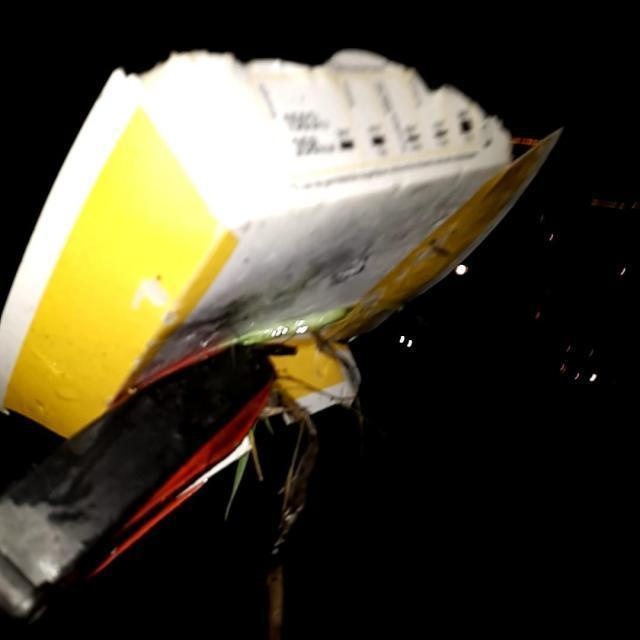Paper: (0, 43, 568, 446)
